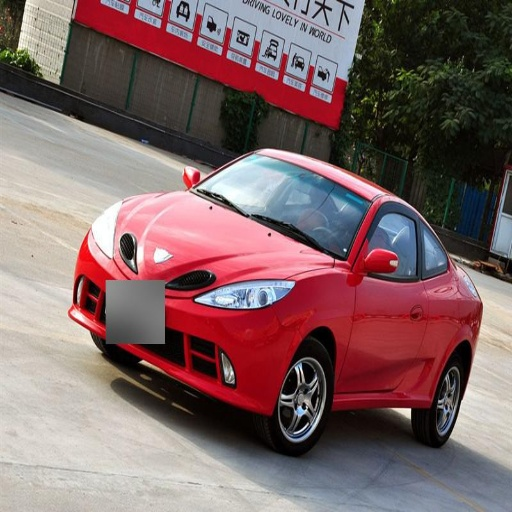front_bumper: (167, 309, 295, 410), (79, 265, 142, 344)
front_glass: (195, 156, 370, 259)
front_left_door: (343, 198, 426, 393)
trunk: (93, 225, 176, 327)
